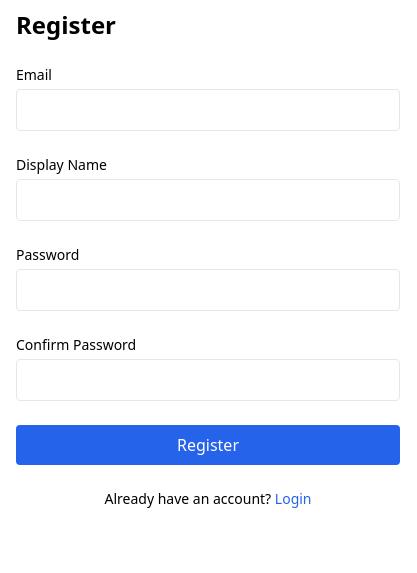
Test: Register › shows validation errors when submitting with short password and mismatched confirmation
The width and height of the screenshot is (417, 573).
Type "alice@example.com" into the field labelled "Email" at point(208, 110), box 16,89 -> 400,131
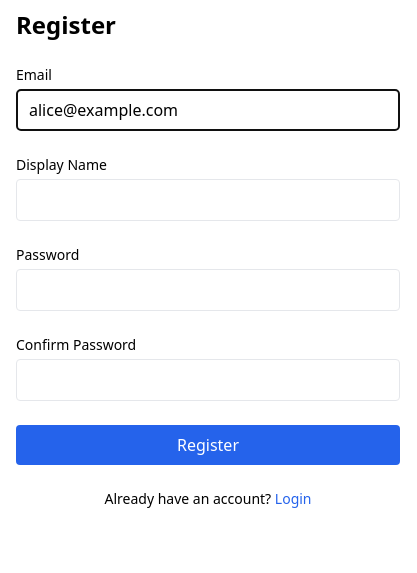
Type "Alice" into the field labelled "Display Name" at point(208, 200), box 16,179 -> 400,221
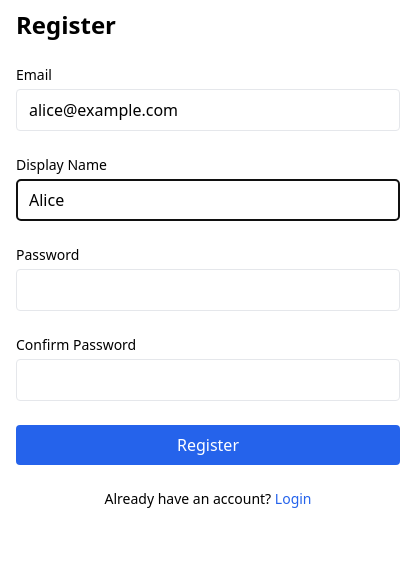
Type "123" into the password field labelled "Password" at point(208, 290), box 16,269 -> 400,311
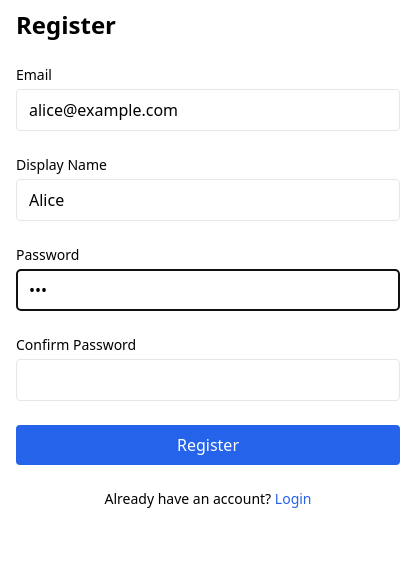
Type "456" into the password field labelled "Confirm Password" at point(208, 380), box 16,359 -> 400,401
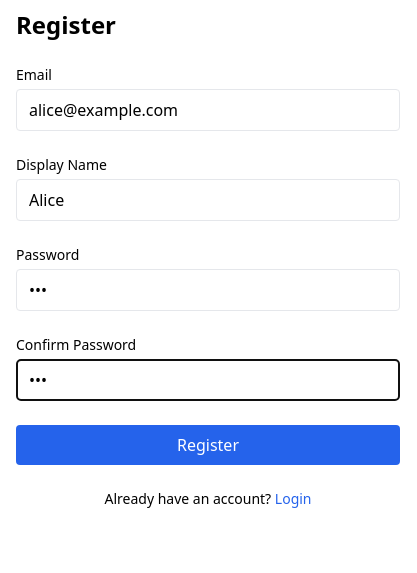
Click the button "Register" at point(208, 445), box 16,425 -> 400,465
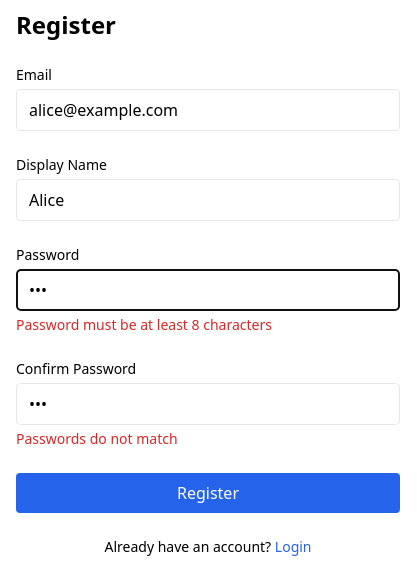
Check: the text "Password must be at least 8 characters" is shown, box 16,315 -> 272,334
Check: the text "Passwords do not match" is shown, box 16,429 -> 178,448
